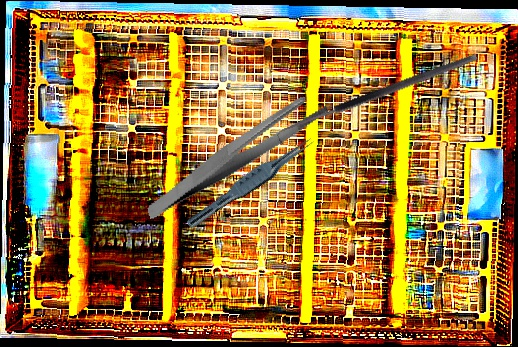Dressing Forceps: (128, 89, 344, 221)
Hook Surgical: (274, 51, 482, 147)
Tissue Forceps: (185, 129, 317, 237)
